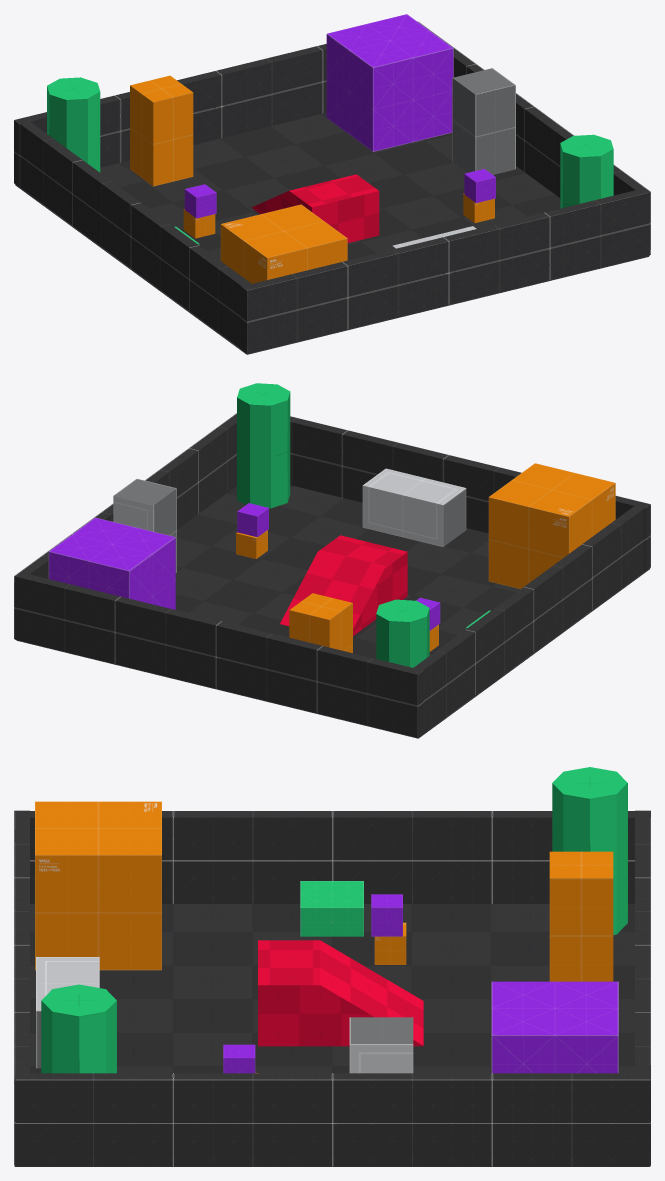
File: paintball-level-final.glb
3 renders of one model, top to bottom at view 1: azimuth 30°, elevation 25°; view 2: azimuth 150°, elevation 25°; view 3: azimuth 270°, elevation 25°, orthographic. The views are drawn at different scales.
Visible parts, largest first — view 1: Walls.001, Floor, Walls.002, Element.006, Walls.003, Element.002, Element.005, Element.007, Walls.004, Ramp, Element.004, Element.008 (+4 smaller); view 2: Walls.003, Floor, Walls.002, Walls.001, Element.002, Element.006, Ramp, Element.008, Element.001, Walls.004, Element.004, Element.005 (+3 smaller); view 3: Walls.004, Floor, Walls.002, Element.002, Ramp, Element.006, Element.005, Element.004, Element.008, Walls.001, Walls.003, Element.007 (+5 smaller).
Part boxes in pixels (x1,y1,x2,y2): Walls.001: (241,188,650,353); Floor: (15,112,648,354); Walls.002: (14,119,251,348); Element.006: (326,14,453,151); Walls.003: (14,44,326,187); Element.002: (220,204,347,283); Element.005: (130,75,193,186); Element.007: (452,68,515,174); Walls.004: (418,21,650,197); Ramp: (251,174,379,242); Element.004: (47,77,100,172); Element.008: (560,134,613,208); Walls.003: (14,572,423,737); Floor: (16,485,650,738); Walls.002: (408,503,649,737); Walls.001: (290,416,650,571); Element.002: (488,463,615,589); Element.006: (48,517,175,609); Ramp: (280,535,407,635); Element.008: (237,383,290,508); Element.001: (362,468,466,546); Walls.004: (14,413,236,578); Element.004: (376,599,429,667); Element.005: (289,593,352,652); Walls.004: (15,1073,650,1166); Floor: (14,904,649,1166); Walls.002: (16,811,650,903); Element.002: (35,801,161,970); Ramp: (258,940,423,1046); Element.006: (491,981,618,1073); Element.005: (549,851,613,981); Element.004: (552,767,627,934); Element.008: (41,984,116,1073); Walls.001: (14,810,29,1165); Walls.003: (635,810,650,1164); Element.007: (349,1017,413,1073).
Size of the model in its own units: 40.16 by 9.78 by 40.11.
8 materials, 8 textured.
